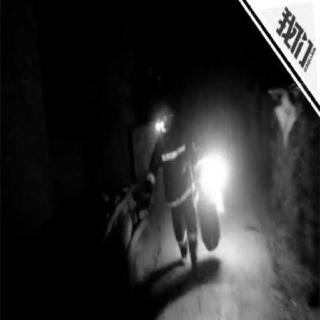other: (144, 101, 187, 177)
